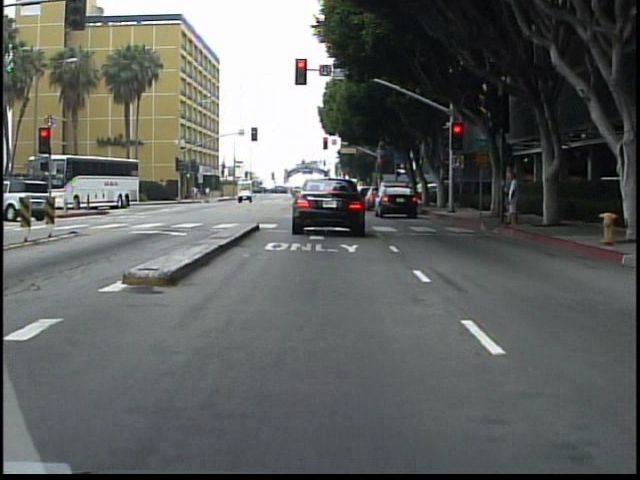person: (502, 169, 522, 229)
